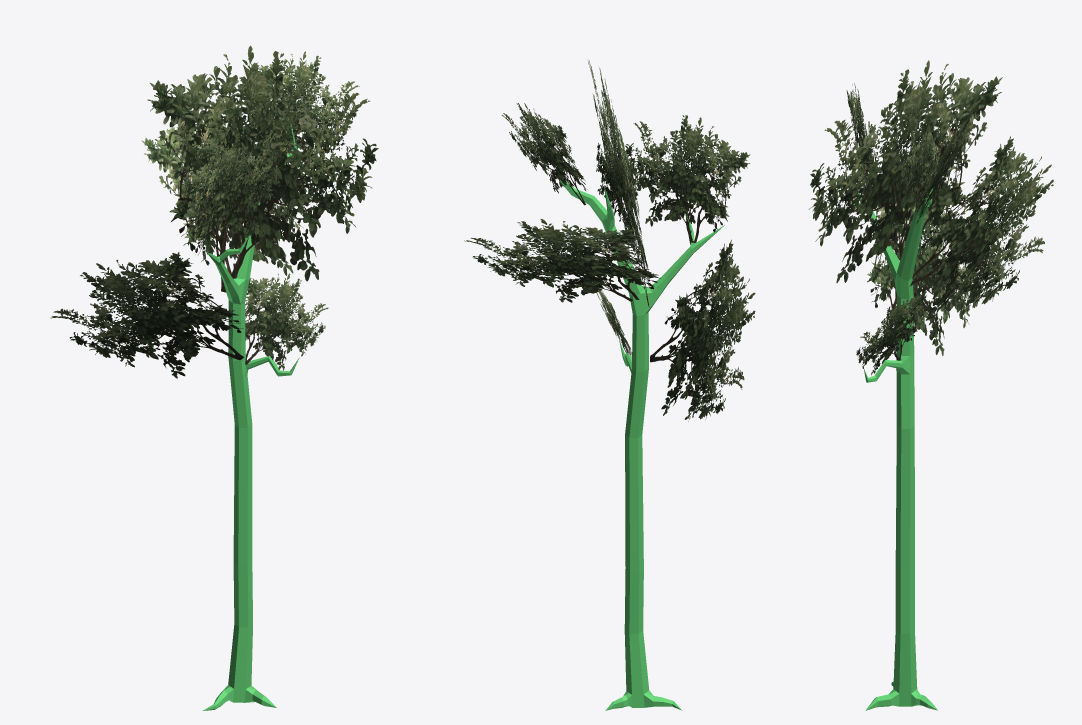
The model's file is Tree.Healthy_2.fbx.
3 renders of one model, left to right at view 1: azimuth 30°, elevation 25°; view 2: azimuth 150°, elevation 25°; view 3: azimuth 270°, elevation 25°, orthographic. The views are drawn at different scales.
Parts seen in each view (by area): view 1: Tree.Healthy_2; view 2: Tree.Healthy_2; view 3: Tree.Healthy_2.
Part boxes in pixels (<box>): Tree.Healthy_2: <box>50,45,378,710</box>; Tree.Healthy_2: <box>464,59,755,710</box>; Tree.Healthy_2: <box>808,60,1053,710</box>.
Size of the model in its own units: 452 by 880 by 333.
